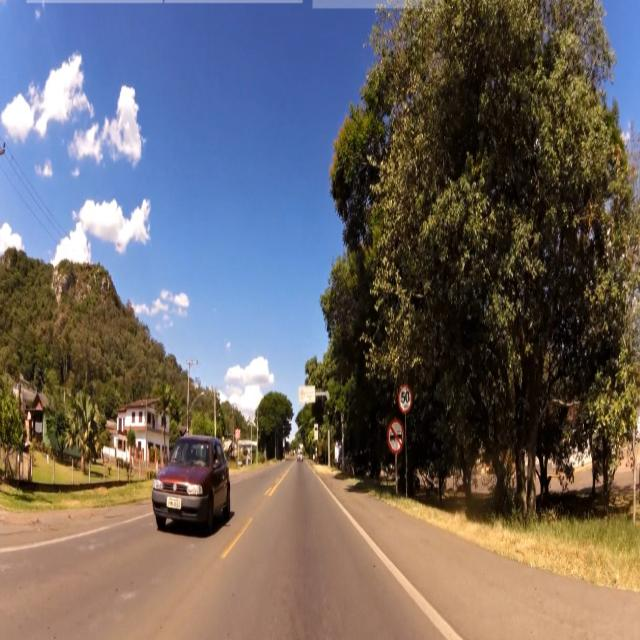R-7: (387, 418, 404, 454)
